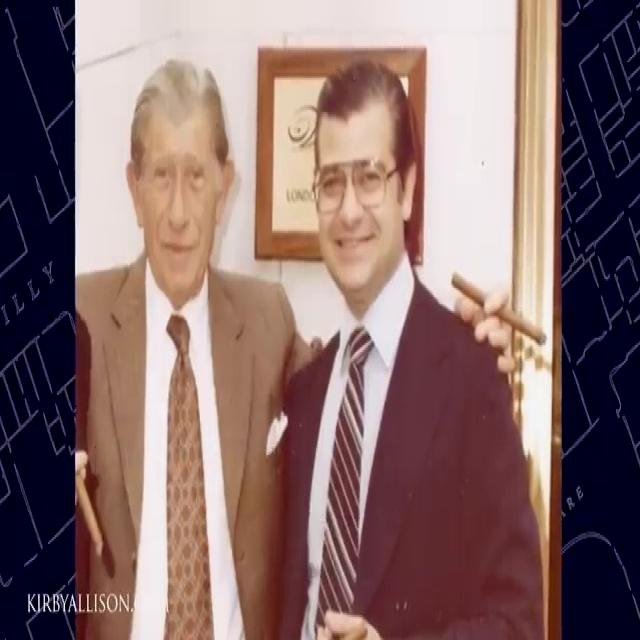Smooking: (449, 262, 548, 362)
